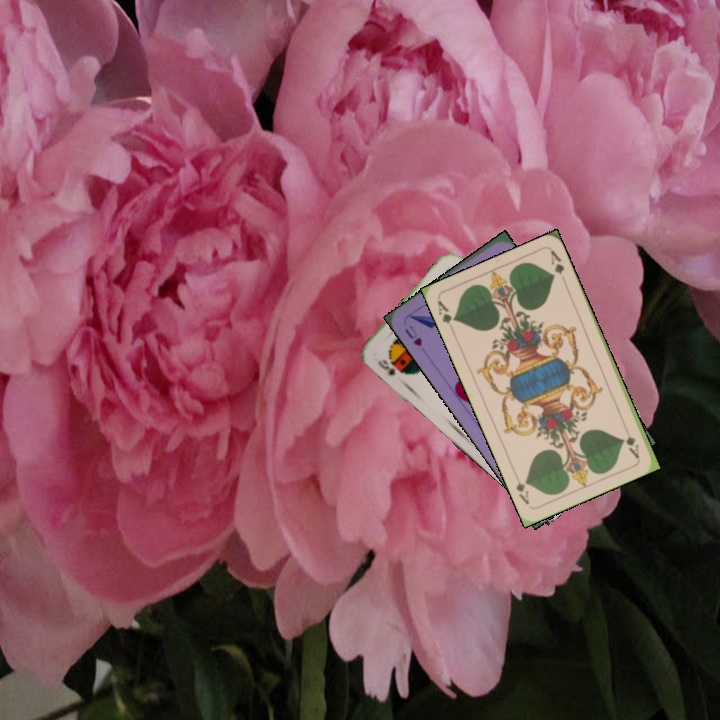GA: (433, 297, 460, 335), (620, 422, 642, 461)
HU: (400, 321, 425, 349)
SO: (373, 355, 405, 378)
